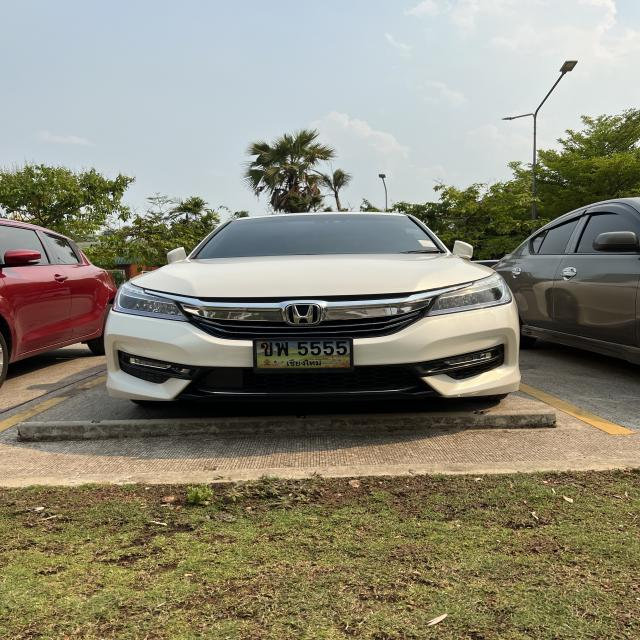license_plate: (252, 338, 354, 372)
